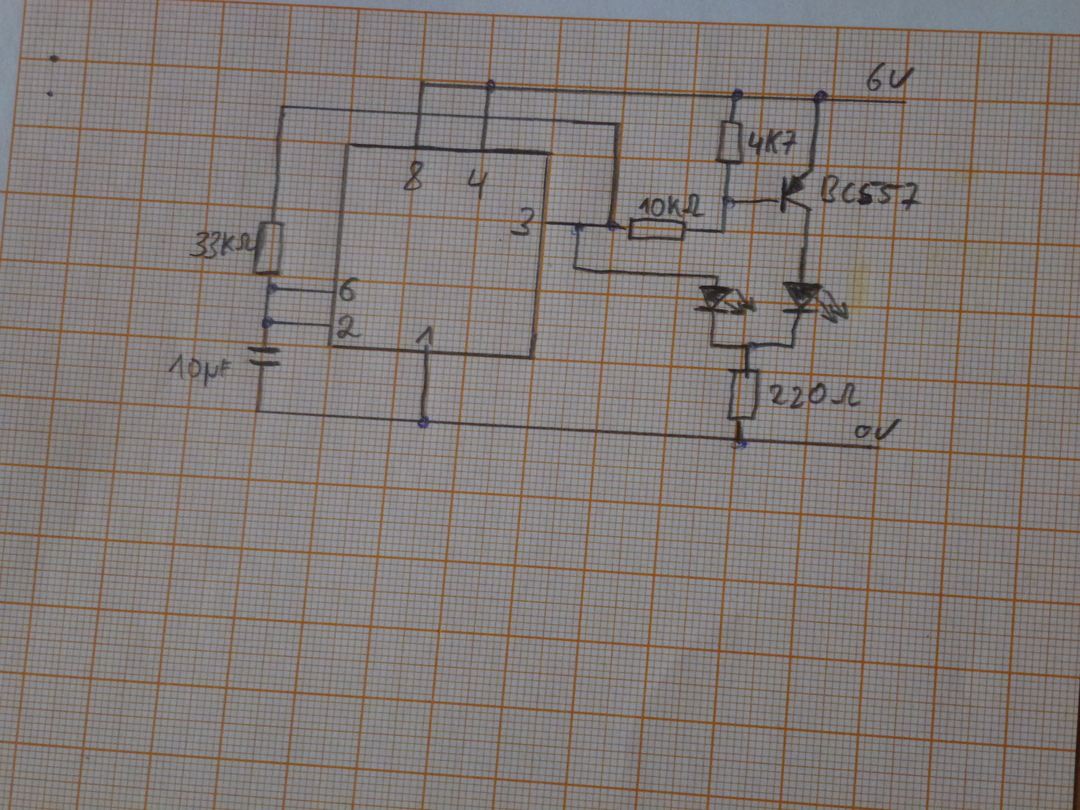capacitor.unpolarized: (244, 344, 285, 370)
crossover: (478, 108, 494, 124), (412, 107, 427, 120)
diode.light_emitting: (779, 279, 851, 325), (693, 284, 759, 319)
integrated_cricuit.ne555: (326, 141, 552, 362)
junction: (729, 431, 748, 451), (811, 89, 829, 107), (415, 414, 435, 430), (481, 78, 499, 95), (727, 87, 744, 104), (259, 314, 277, 329), (604, 219, 621, 233), (720, 195, 737, 209), (264, 282, 280, 296), (610, 118, 626, 131), (572, 219, 585, 233), (741, 340, 756, 352), (570, 261, 582, 275), (252, 403, 264, 417), (277, 102, 290, 114), (418, 78, 429, 91), (717, 225, 730, 236), (710, 271, 724, 281), (788, 340, 799, 351), (705, 340, 716, 351)
resistor: (725, 365, 763, 423), (251, 218, 287, 278), (625, 216, 689, 244), (714, 118, 747, 166)
terminal: (866, 443, 884, 454), (899, 96, 911, 108)
text: (820, 174, 922, 213), (769, 381, 863, 408), (167, 353, 232, 386), (188, 230, 257, 260), (638, 193, 707, 219), (865, 61, 916, 92), (747, 127, 801, 156), (854, 418, 903, 440), (401, 160, 427, 192), (465, 167, 490, 199), (509, 207, 536, 236), (336, 313, 362, 340), (338, 276, 363, 303), (415, 325, 437, 347)
transistor: (777, 167, 814, 215)
